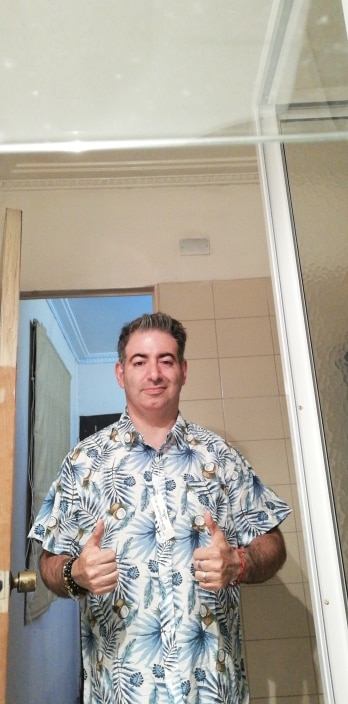shirts: (31, 409, 293, 704)
